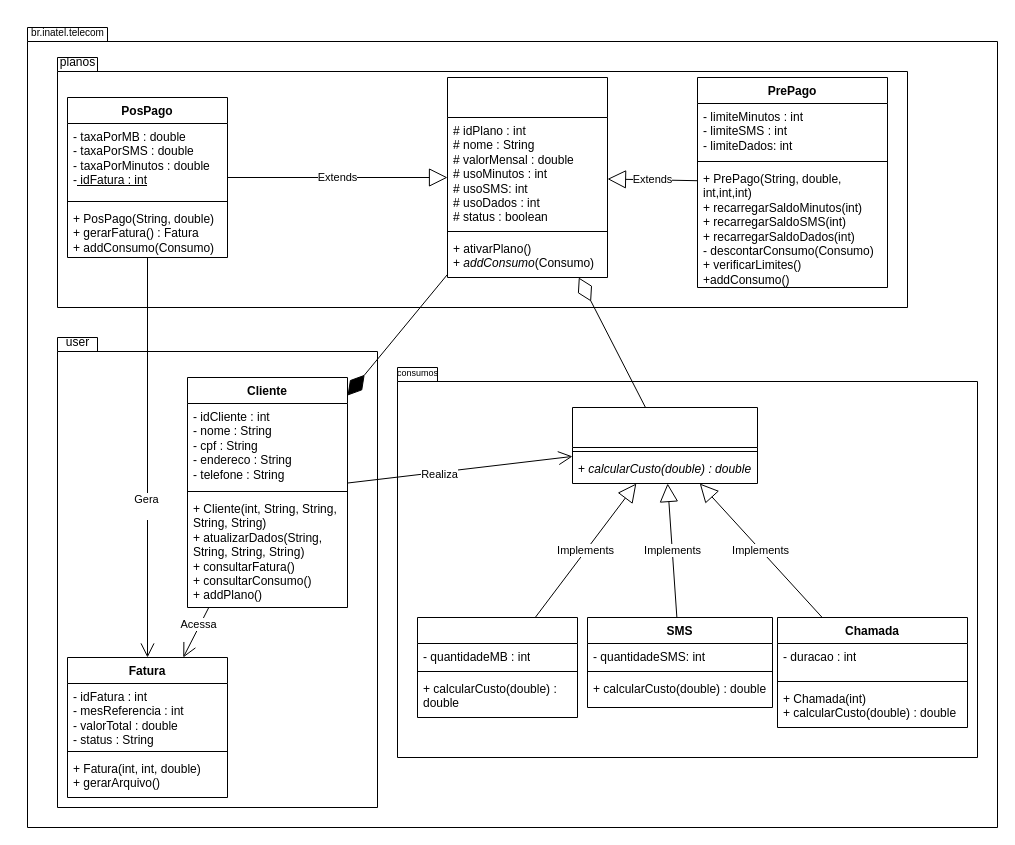
Image size: 1015x845. Some labels were removed from this diagram. Each missing label, with the box of its shape:
<<abstract>> Plano: (446, 76, 608, 278)
<<interface>> Consumo: (572, 406, 758, 484)
DadosMoveis: (416, 616, 578, 718)
